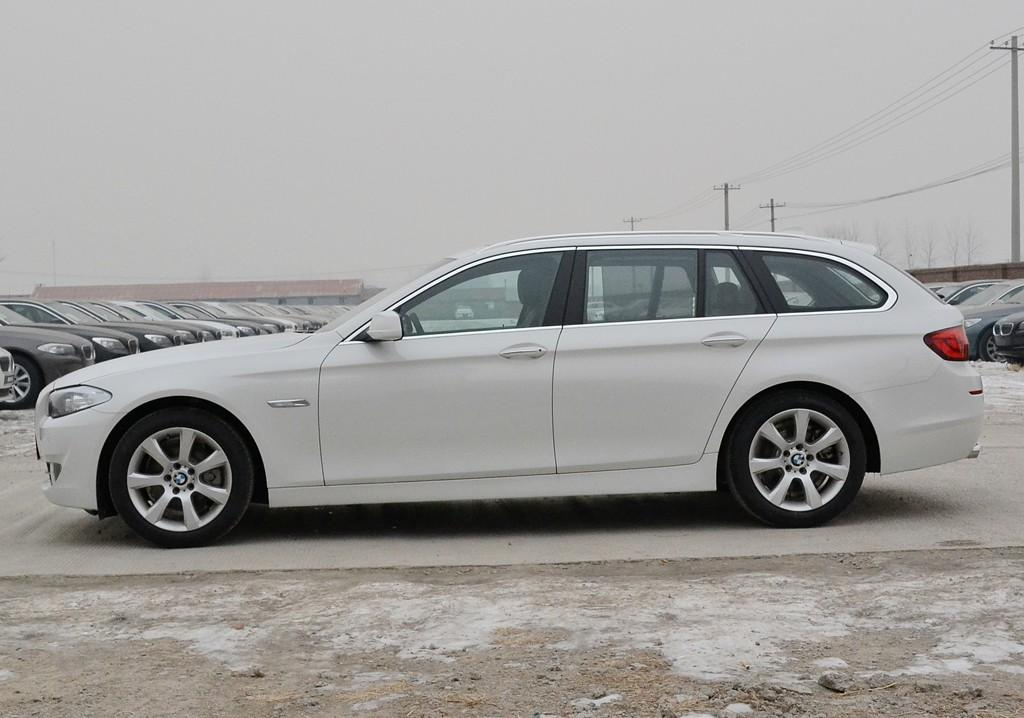Wagon: (33, 225, 988, 529)
